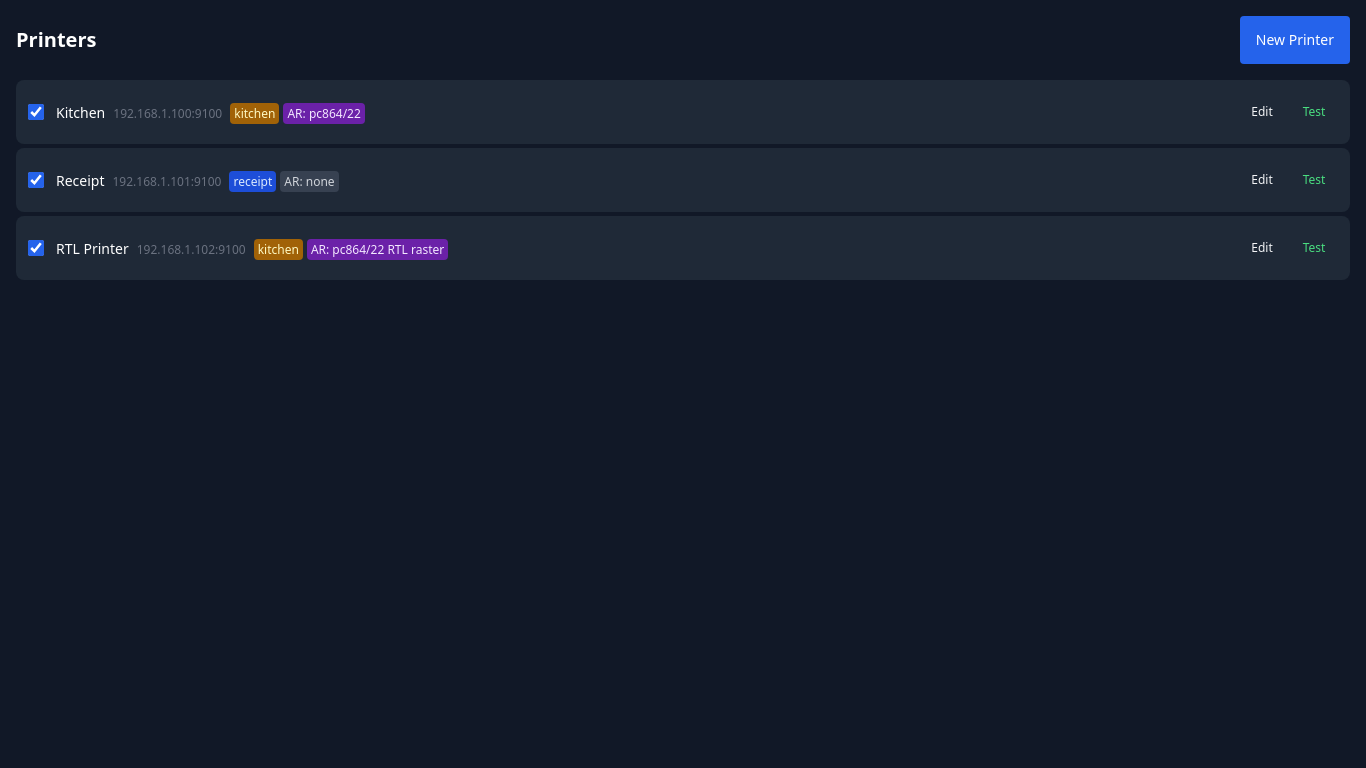
Scenario: PrintersPage — config › opens New Printer with Active checked by default
expect the heading "Printers" is shown: met, box [16,26,96,54]
Click the button "New Printer": (1295, 40) [1240,16,1350,64]
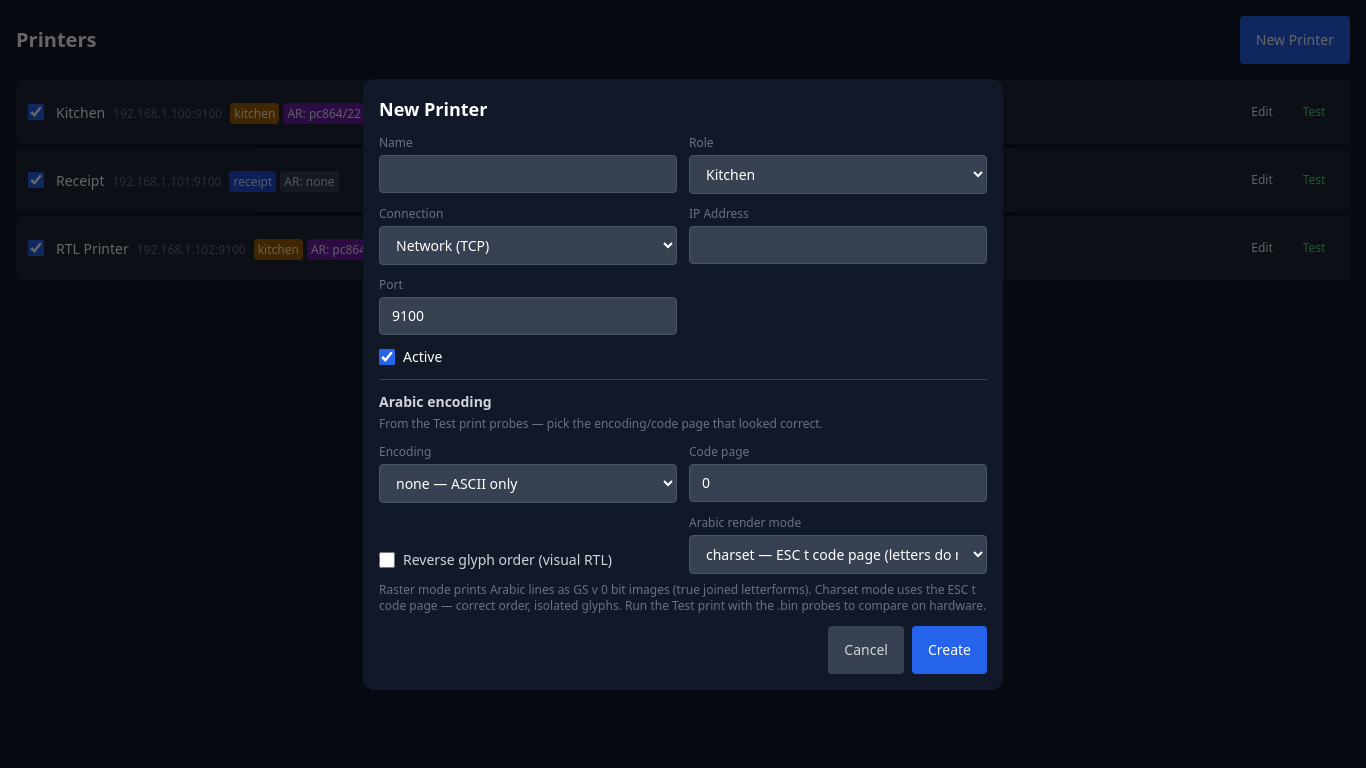
expect the heading "New Printer" is shown: met, box [379,96,487,120]
expect the field labelled "Name" is empty: met, box [379,154,677,192]
expect the checkbox labelled "Active" is checked: met, box [379,348,395,364]
